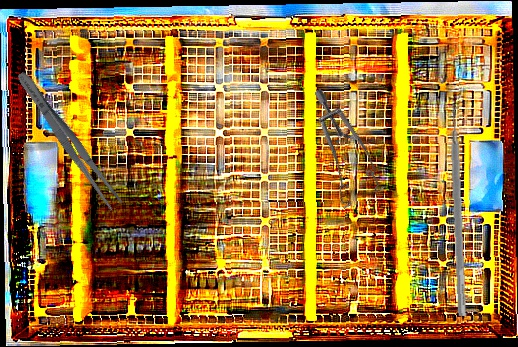Dressing Forceps: (11, 67, 126, 213)
Spatula Surgical: (446, 99, 476, 317)
Speculum: (270, 87, 408, 221)
